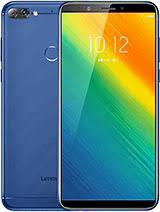lenovo: (58, 1, 160, 212)
